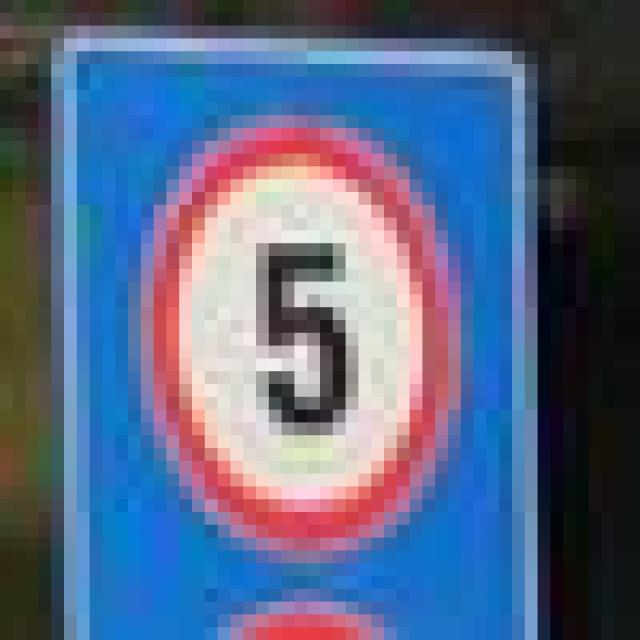speed_limit_20: (128, 90, 461, 550)
